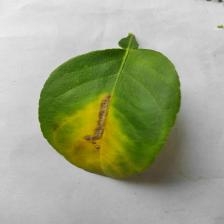canker: (54, 86, 136, 156)
